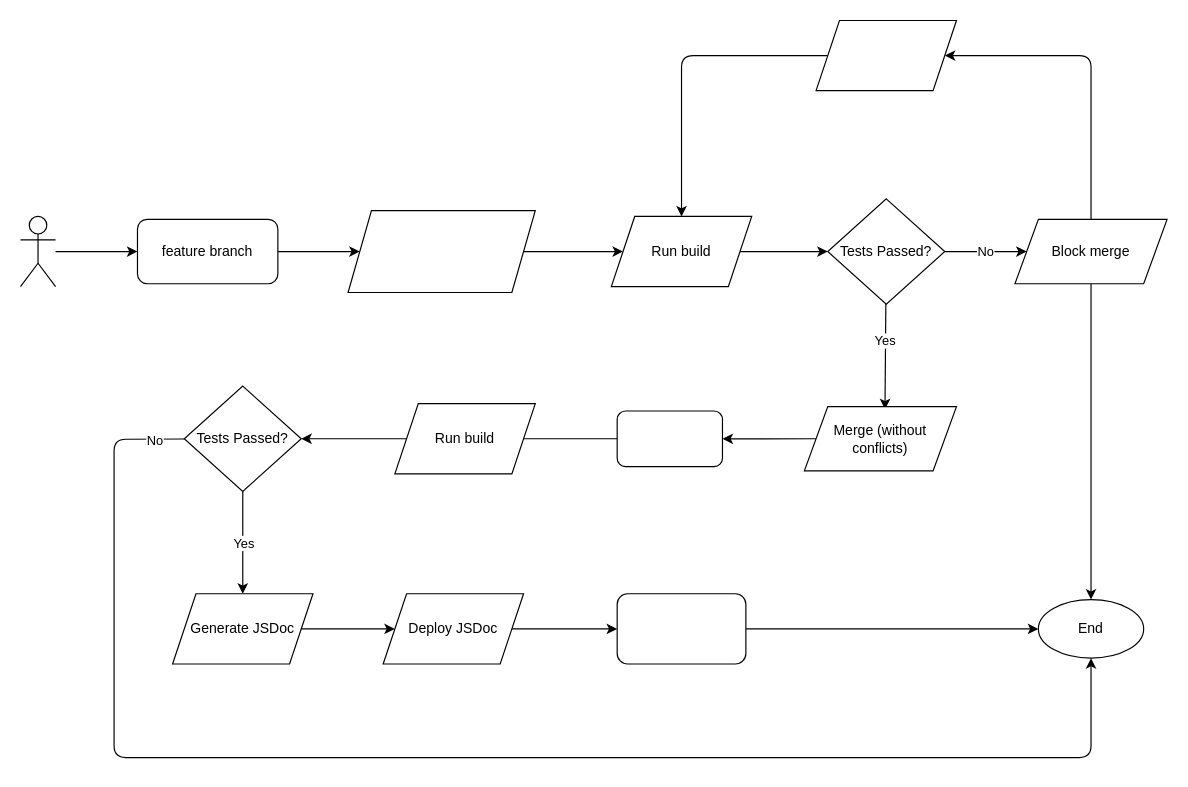
The diagram is 1188 pixels wide and 787 high, and some of its shapes have lost their labels. The box of each missing label's shape, as (x1, y1, x2, y2) in pixels:
Dev: (19, 215, 56, 287)
main: (616, 410, 722, 467)
production: (616, 593, 746, 664)
Pull Request to main: (347, 209, 535, 292)
Push fix: (815, 19, 956, 91)
